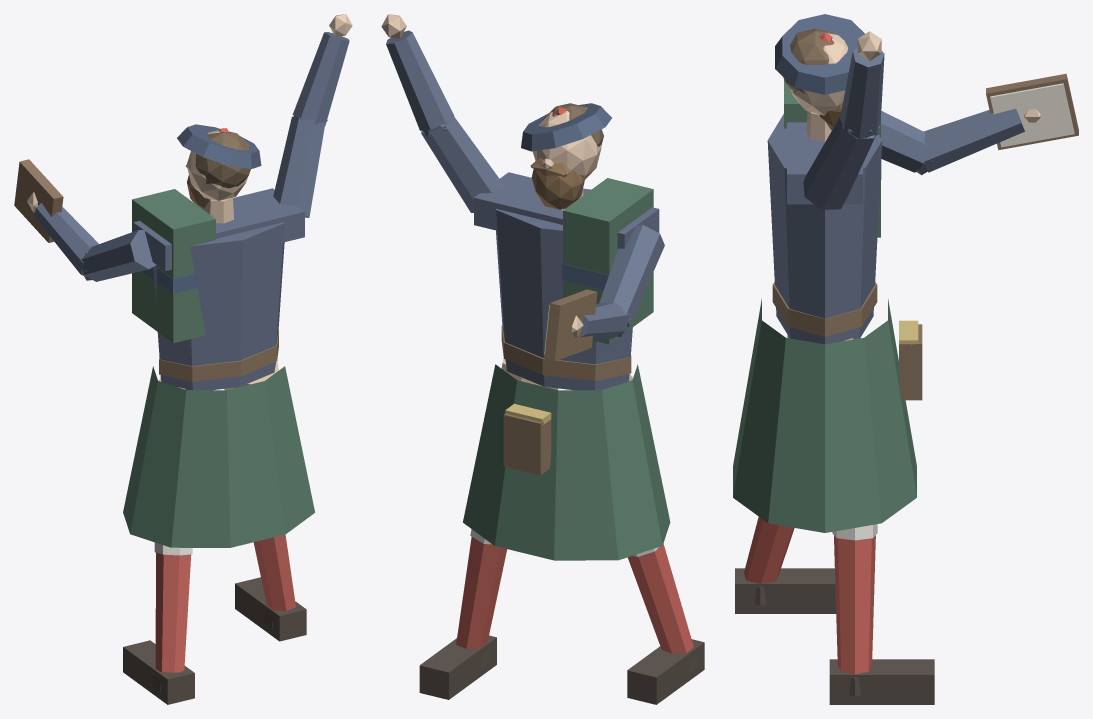
File: dundonnachie_speaking.glb
3 renders of one model, left to right at view 1: azimuth 30°, elevation 25°; view 2: azimuth 150°, elevation 25°; view 3: azimuth 270°, elevation 25°, orthographic. The views are drawn at different scales.
Parts seen in each view (by area): view 1: tartan_g, wool_navy, hose_red, boot, leather, skin, bonnet_blue, hair, tartan_b; view 2: tartan_g, wool_navy, leather, hose_red, boot, skin, bonnet_blue, beard, tartan_b, brass; view 3: tartan_g, wool_navy, boot, hose_red, leather, bonnet_blue, paper, skin, hair.
Part boxes in pixels (x1,y1,x2,y2): tartan_g: [123, 189, 314, 547]; wool_navy: [34, 32, 349, 389]; hose_red: [155, 534, 295, 672]; boot: [123, 577, 306, 704]; leather: [14, 159, 278, 381]; skin: [27, 14, 352, 390]; bonnet_blue: [177, 124, 261, 168]; hair: [195, 131, 250, 188]; tartan_b: [142, 267, 198, 293]; tartan_g: [463, 178, 670, 560]; wool_navy: [386, 30, 664, 390]; leather: [501, 289, 631, 475]; hose_red: [456, 537, 693, 653]; boot: [419, 635, 704, 704]; skin: [381, 14, 632, 390]; bonnet_blue: [521, 103, 611, 151]; beard: [530, 157, 585, 209]; tartan_b: [562, 264, 608, 289]; brass: [505, 403, 551, 424]; tartan_g: [733, 80, 916, 532]; wool_navy: [767, 47, 1024, 344]; boot: [735, 568, 934, 704]; hose_red: [744, 517, 875, 674]; leather: [772, 73, 1078, 400]; bonnet_blue: [775, 14, 864, 94]; paper: [990, 83, 1074, 147]; skin: [787, 31, 1040, 341]; hair: [783, 28, 834, 93].
Bounding box in the file's own units: 0.9142 × 2.07 × 0.9258.
